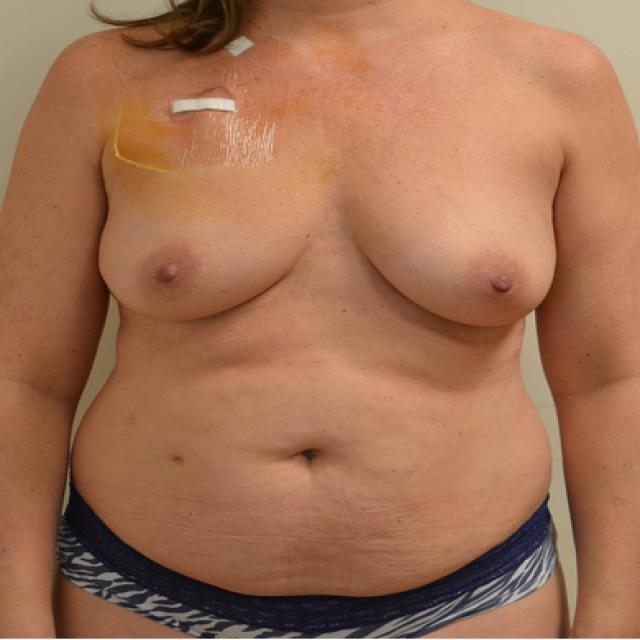Seno herido: (90, 128, 324, 337)
Seno ileso: (336, 136, 564, 341)
